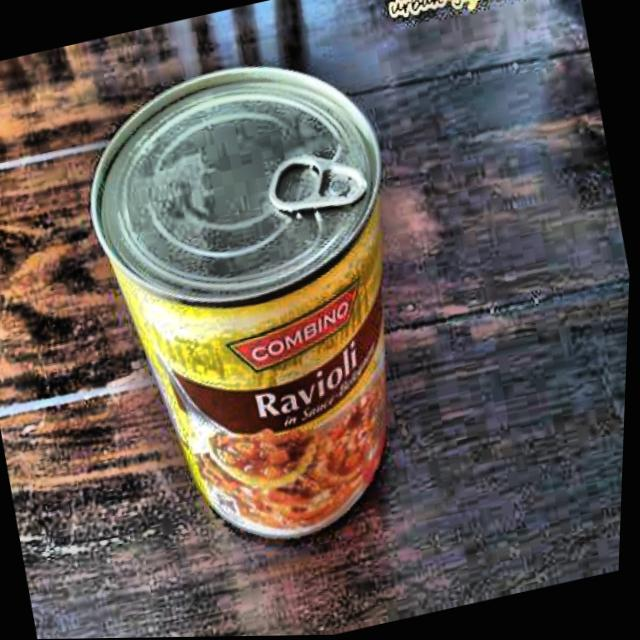Cans: (54, 1, 452, 563)
